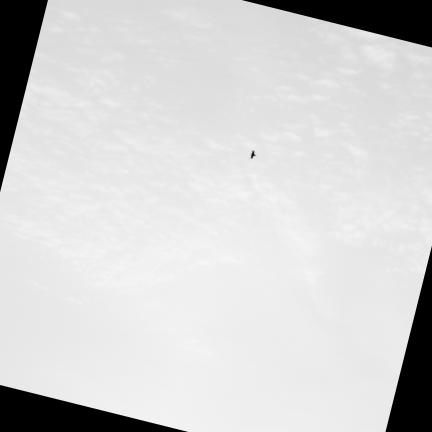Shahed: (249, 150, 255, 158)
